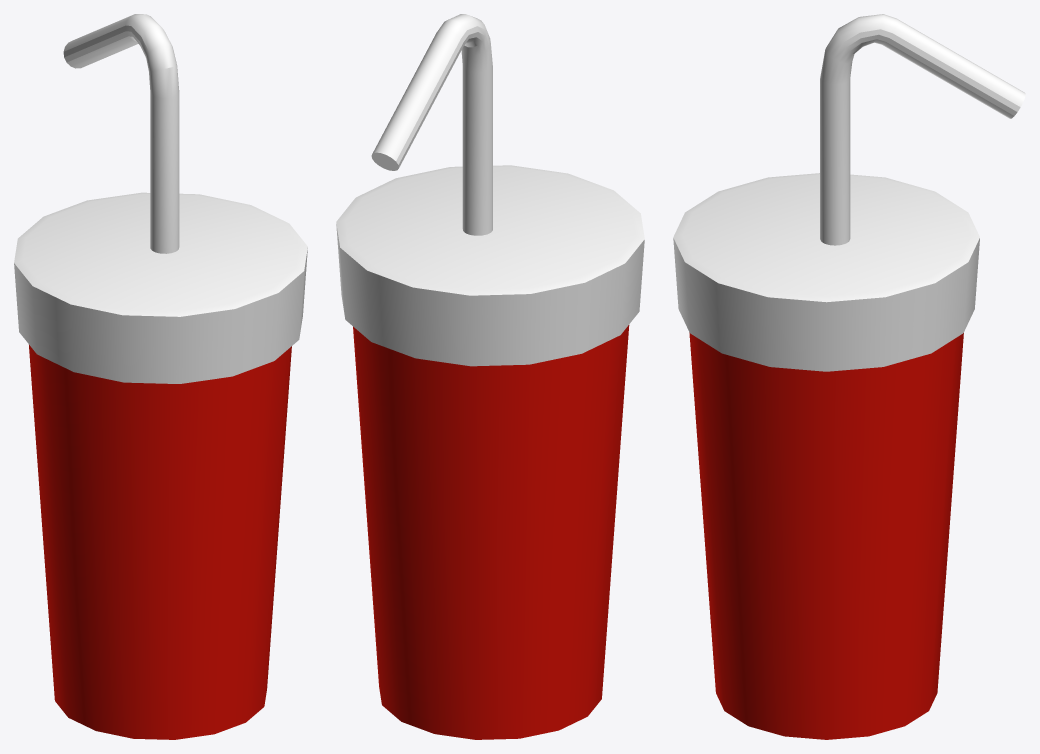
File: refresco.fbx
3 renders of one model, left to right at view 1: azimuth 30°, elevation 25°; view 2: azimuth 150°, elevation 25°; view 3: azimuth 270°, elevation 25°, orthographic. The views are drawn at different scales.
Visible parts, largest first — view 1: refresco_blocking; view 2: refresco_blocking; view 3: refresco_blocking.
Part boxes in pixels (x1=…): refresco_blocking: x1=14, y1=14, x2=307, y2=739; refresco_blocking: x1=336, y1=14, x2=644, y2=739; refresco_blocking: x1=673, y1=14, x2=1025, y2=739.
Size of the model in its own units: 65.08 by 160 by 74.75.
